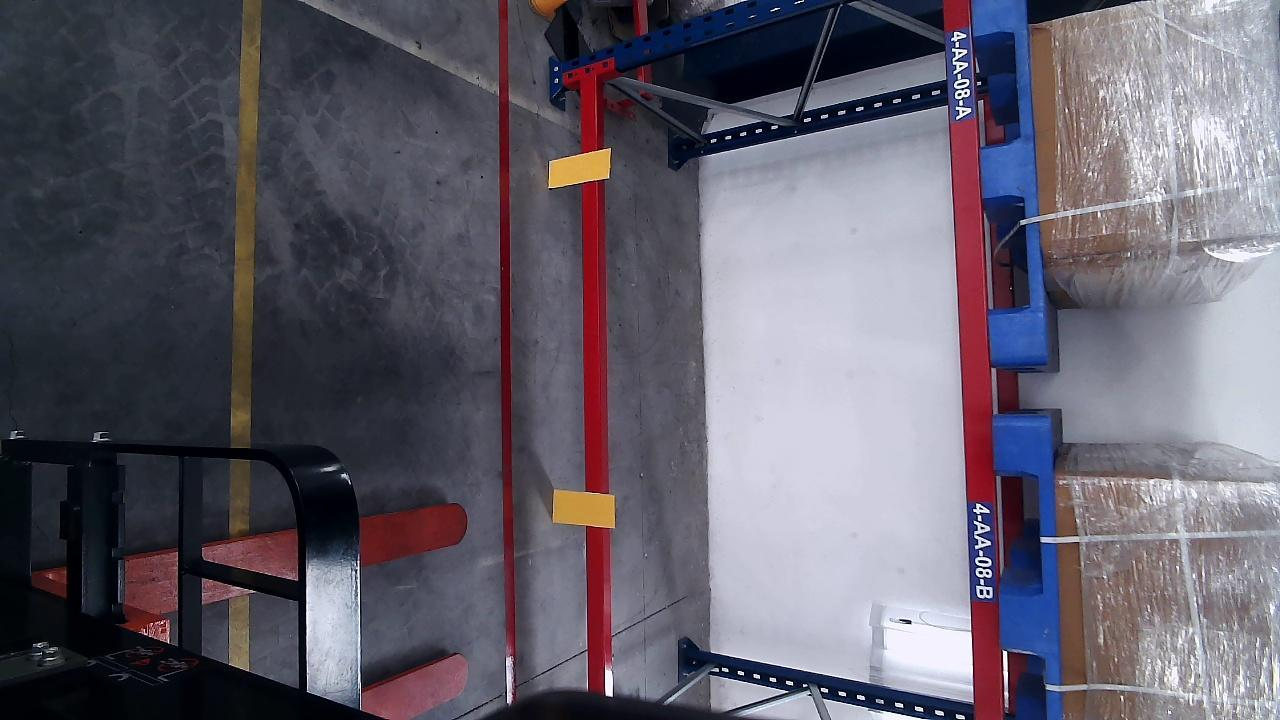h_rack: (938, 0, 1007, 720), (573, 75, 607, 687)
orange_strip: (550, 146, 611, 188), (550, 490, 616, 527)
red_line: (496, 0, 522, 704)
small_pallet: (976, 2, 1048, 367), (991, 421, 1061, 718)
yellow_line: (229, 2, 263, 674)
